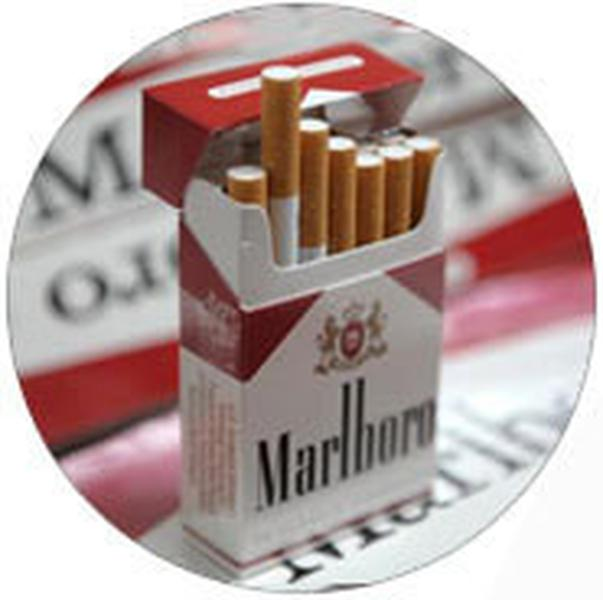marlboro_red: (240, 191, 437, 494)
